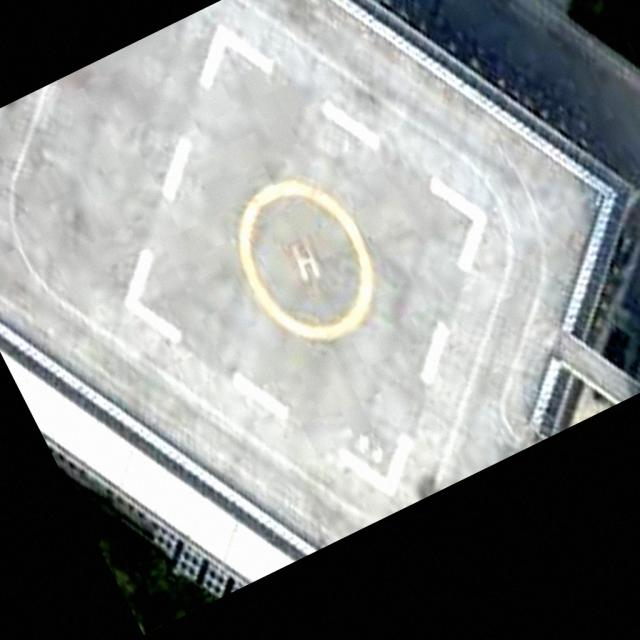helipad: (235, 175, 377, 344)
